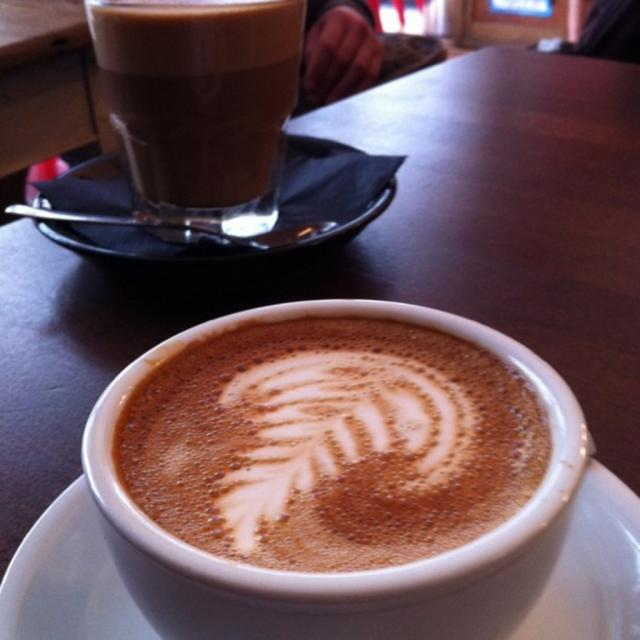Coffee: (114, 305, 552, 570), (76, 1, 291, 205)
